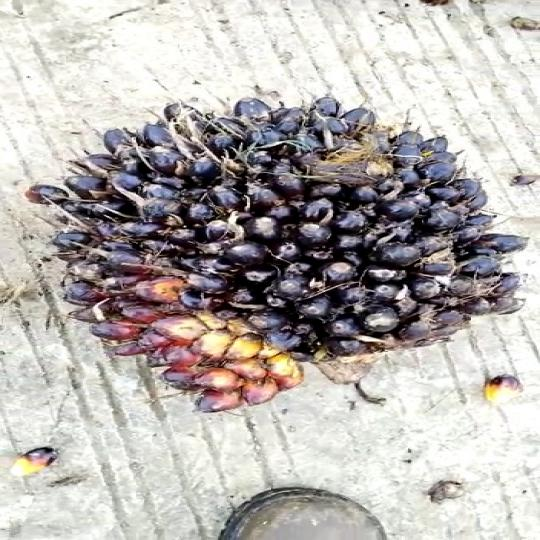mentah: (25, 91, 540, 394)
